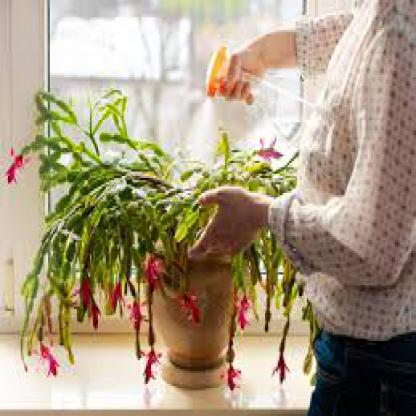Aglonema: (81, 248, 262, 330)
